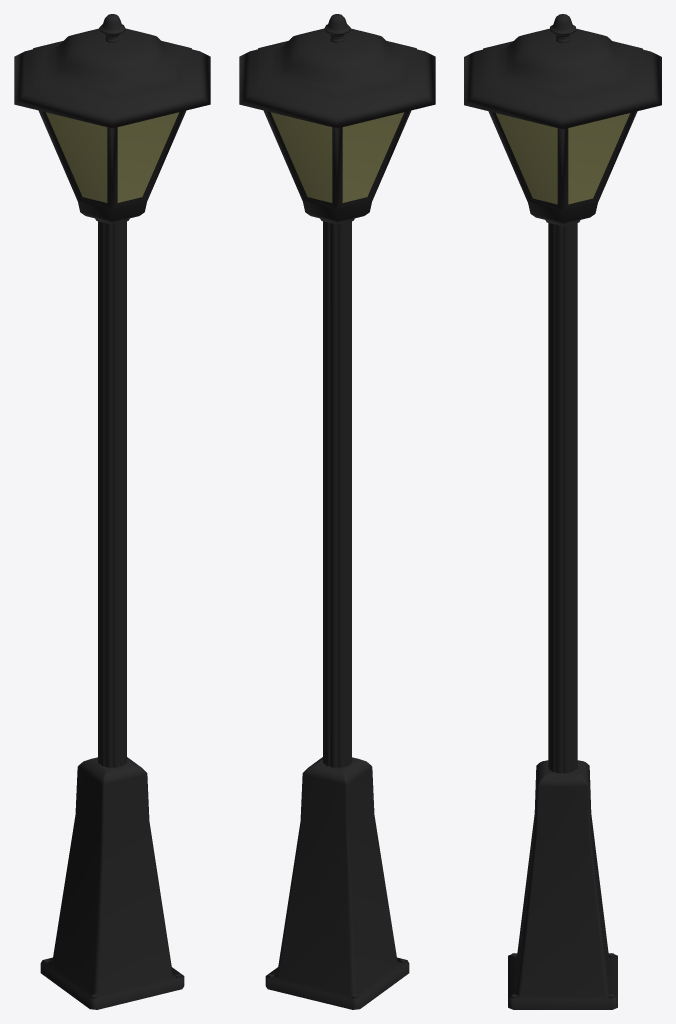
Rendered from street_lamp_3.fbx.
The picture shows the model from 3 angles, left to right: view 1: azimuth 30°, elevation 25°; view 2: azimuth 150°, elevation 25°; view 3: azimuth 270°, elevation 25°; orthographic projection.
Visible parts, largest first — view 1: Street_Lamp_3_LampPoleFluted1; view 2: Street_Lamp_3_LampPoleFluted1; view 3: Street_Lamp_3_LampPoleFluted1.
Part boxes in pixels (x1,y1,x2,y2): Street_Lamp_3_LampPoleFluted1: [14, 14, 210, 1009]; Street_Lamp_3_LampPoleFluted1: [239, 14, 435, 1009]; Street_Lamp_3_LampPoleFluted1: [464, 14, 661, 1009].
Bounding box in the file's own units: 75.46 × 354 × 65.35.
